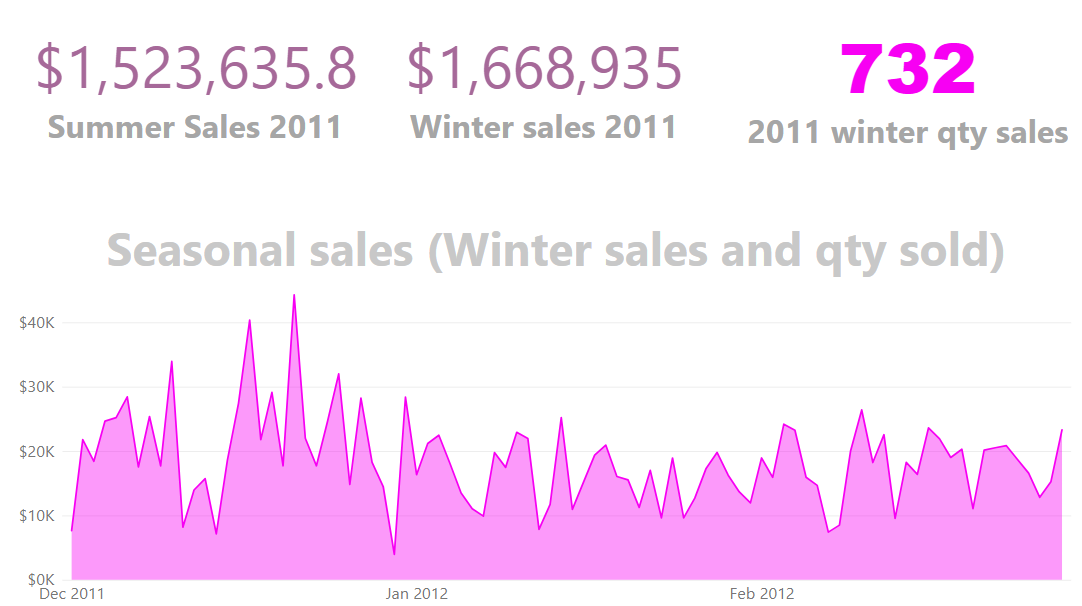

The dashboard page shown, as its layout file describes it:
{"tool":"powerbi","page":{"name":"Seasonal Sales","canvas":[1280,720],"ordinal":0},"visuals":[{"type":"areaChart","title":"Seasonal sales (Winter sales and qty sold)","fields":{"Y":["Scenario Sales.Winter sales 2011/2012"],"Category":["DimDate.FullDateAlternateKey"]},"box":[26.9,262,1253.1,458.6],"z":0},{"type":"card","fields":{"Values":["Scenario Sales.Summer Sales 2021"]},"box":[26.9,0,419.9,218.4],"z":1000},{"type":"card","fields":{"Values":["Scenario Sales.Winter sales 2011/2012"]},"box":[430,0,419.9,218.4],"z":2000},{"type":"card","fields":{"Values":["Scenario Sales.Winter qty sold 2011/2012"]},"box":[850,0,419.9,218.4],"z":3000}]}

Visuals, with their boxes in screenshot pixels (x1, y1, x2, y2), scaled from the page's 1280x720 canvas onto the 1082x606 screenshot:
"Seasonal sales (Winter sales and qty sold)" areaChart: <box>23,221,1081,605</box>
card - Scenario Sales.Summer Sales 2021: <box>23,0,378,184</box>
card - Scenario Sales.Winter sales 2011/2012: <box>363,0,718,184</box>
card - Scenario Sales.Winter qty sold 2011/2012: <box>719,0,1073,184</box>
